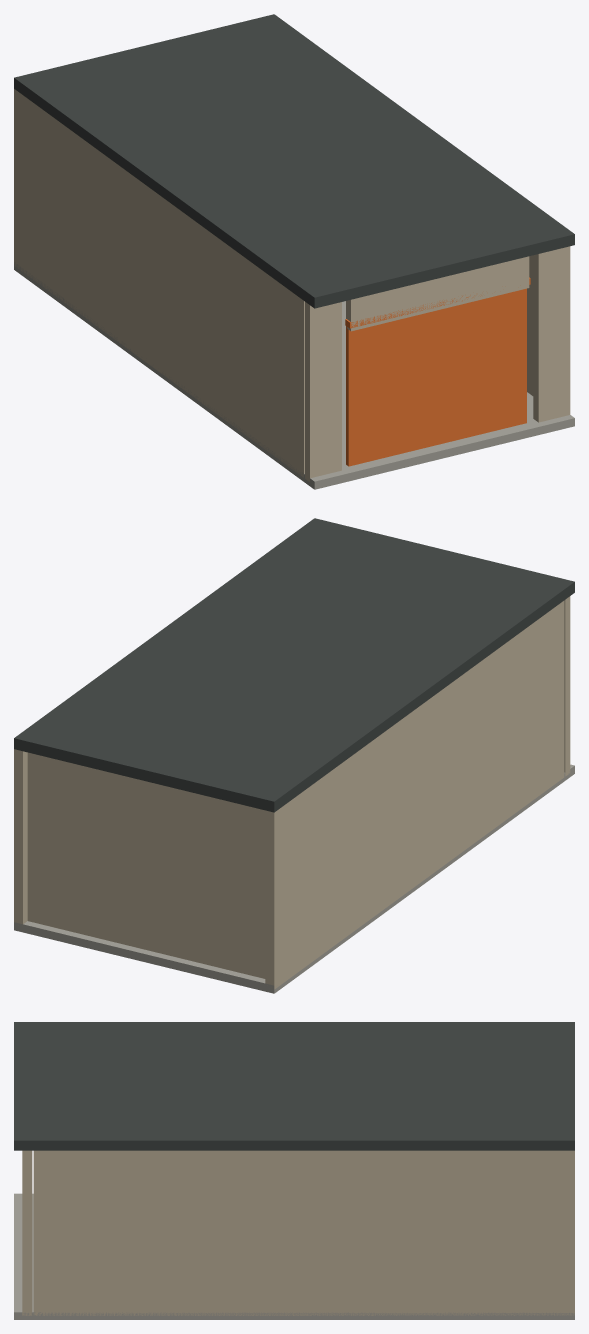
File: starter-garage.glb
3 views of the same model, one above another, from view 1: azimuth 30°, elevation 25°; view 2: azimuth 150°, elevation 25°; view 3: azimuth 270°, elevation 25° (orthographic). The views are drawn at different scales.
Parts seen in each view (by area): view 1: Flat_Roof, Left_Wall, Garage_Slab, Sectional_Panel_3, Sectional_Panel_2, Sectional_Panel_1, Facade_Right_Pier, Facade_Left_Pier, Facade_Header, Sectional_Panel_4, Right_Wall; view 2: Flat_Roof, Left_Wall, Back_Wall, Garage_Slab, Right_Wall, Facade_Left_Pier; view 3: Right_Wall, Flat_Roof, Garage_Slab, Facade_Right_Pier.
Part boxes in pixels (x1,y1,x2,y2): Flat_Roof: (14,14,574,308); Left_Wall: (14,89,304,477); Garage_Slab: (14,262,574,489); Sectional_Panel_3: (346,315,526,394); Sectional_Panel_2: (346,351,526,431); Sectional_Panel_1: (346,388,526,466); Facade_Right_Pier: (533,246,570,422); Facade_Left_Pier: (305,302,341,481); Facade_Header: (346,256,529,331); Sectional_Panel_4: (346,288,526,358); Right_Wall: (527,255,533,395); Flat_Roof: (14,518,574,812); Left_Wall: (265,601,564,989); Back_Wall: (27,752,265,978); Garage_Slab: (14,764,574,993); Right_Wall: (14,749,27,925); Facade_Left_Pier: (564,596,570,776); Right_Wall: (33,1150,574,1315); Flat_Roof: (14,1022,574,1150); Garage_Slab: (14,1193,574,1319); Facade_Right_Pier: (22,1150,32,1315).
Bounding box in the file's own units: 4 × 2.82 × 8.
